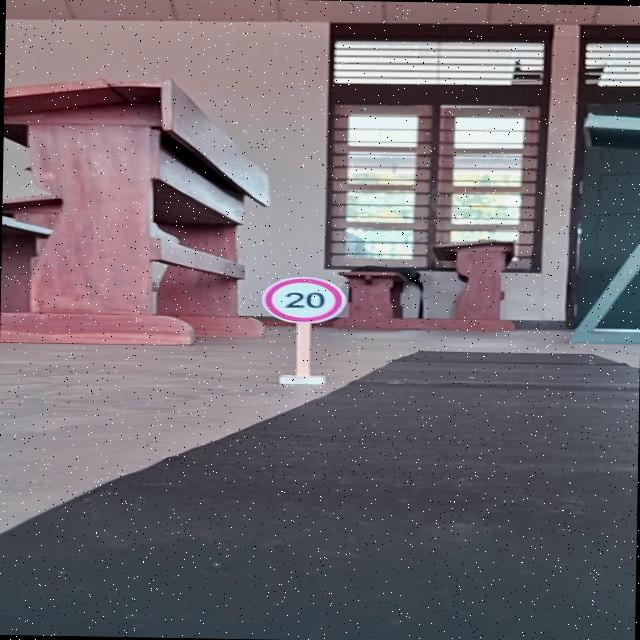Speed20: (257, 274, 349, 328)
